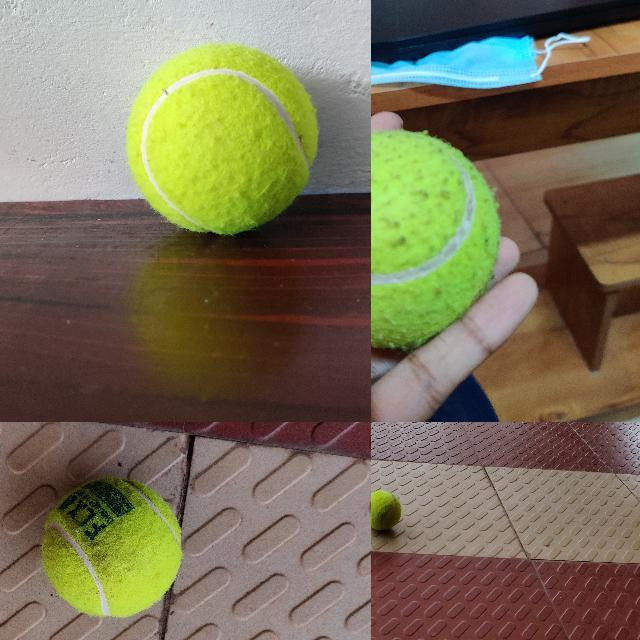tennis-ball: (126, 43, 318, 235), (371, 129, 500, 350), (41, 478, 181, 616), (371, 489, 401, 529)
